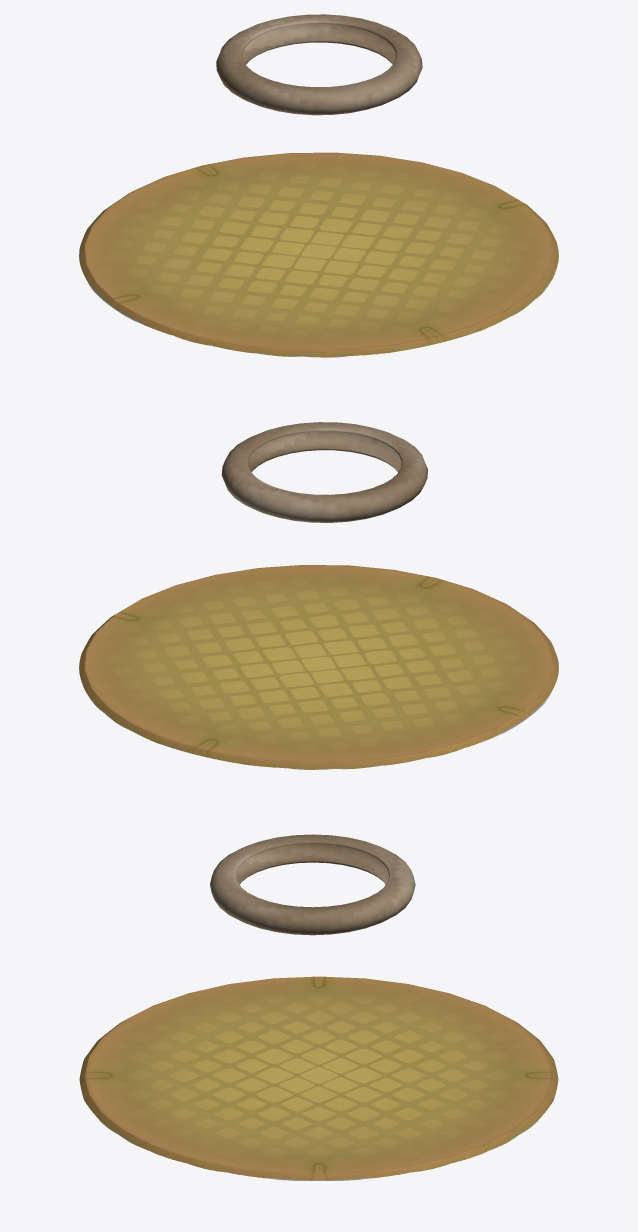
File: pref_TPC_v2_NeutralScoreArea03_yellow_narrow_lv3.fbx
3 renders of one model, top to bottom at view 1: azimuth 30°, elevation 25°; view 2: azimuth 150°, elevation 25°; view 3: azimuth 270°, elevation 25°, orthographic.
Parts seen in each view (by area): view 1: sm_prop_platform06a_lv3, sm_prop_platform06b_lv3; view 2: sm_prop_platform06a_lv3, sm_prop_platform06b_lv3; view 3: sm_prop_platform06a_lv3, sm_prop_platform06b_lv3.
Part boxes in pixels (x1,y1,x2,y2): sm_prop_platform06a_lv3: [79, 152, 558, 357]; sm_prop_platform06b_lv3: [216, 14, 422, 115]; sm_prop_platform06a_lv3: [79, 565, 558, 769]; sm_prop_platform06b_lv3: [221, 422, 427, 522]; sm_prop_platform06a_lv3: [79, 976, 558, 1181]; sm_prop_platform06b_lv3: [210, 834, 415, 935].
Bounding box in the file's own units: 7.46 × 2.88 × 7.46.
